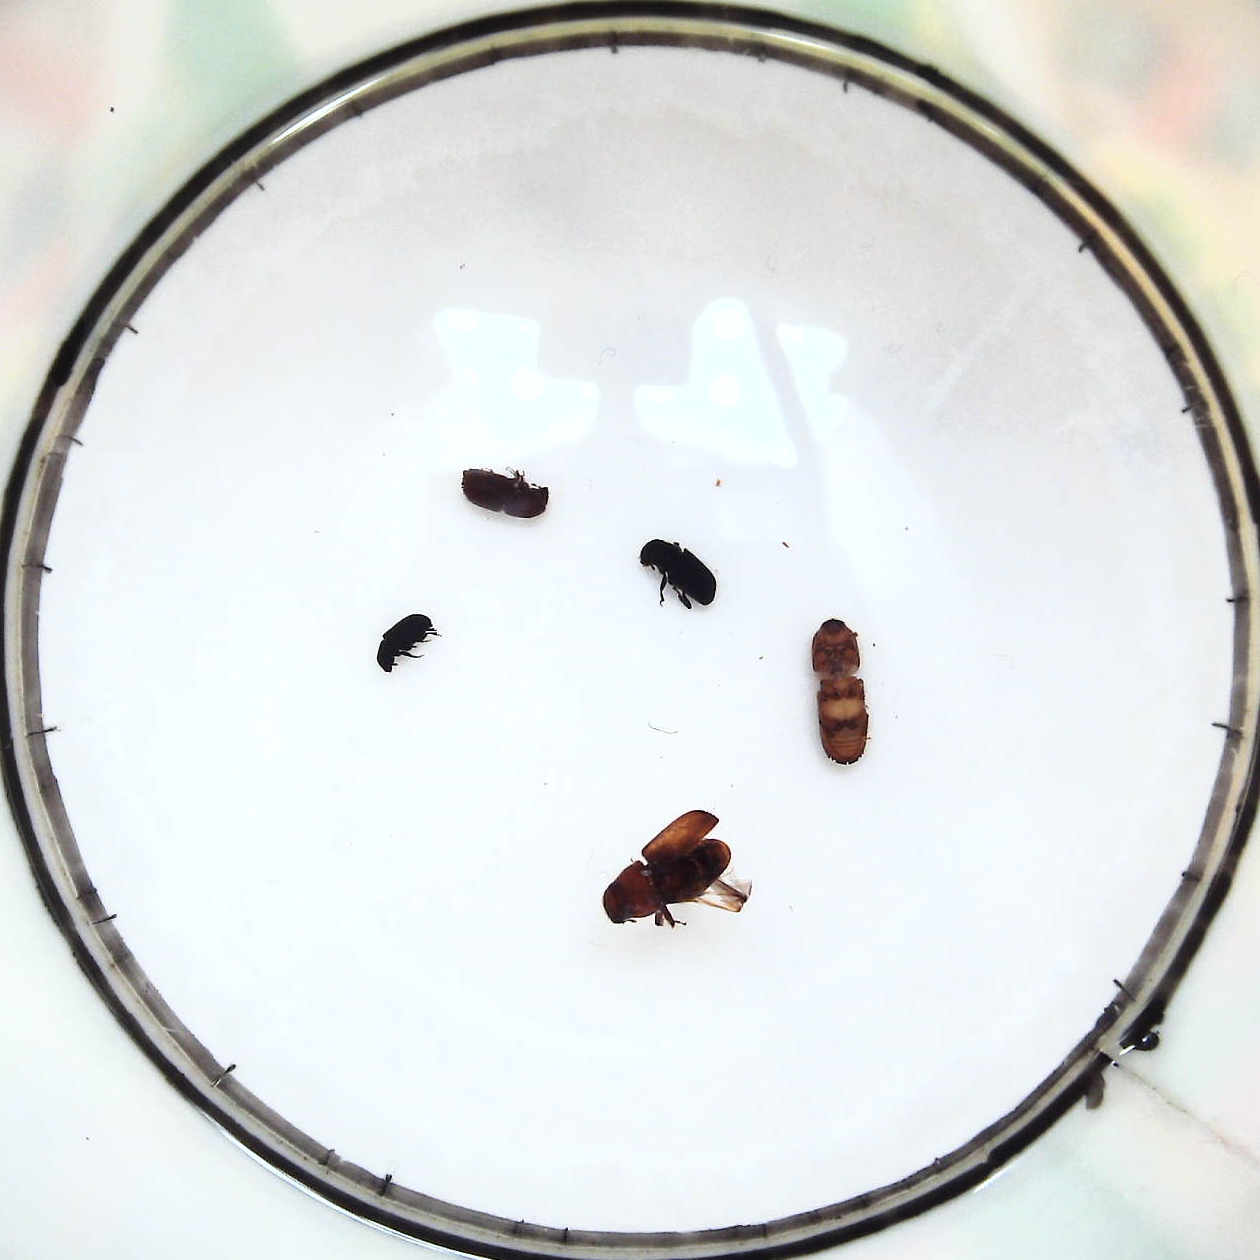Boerner: (813, 617, 873, 768)
Leconte: (602, 807, 747, 927)
Linnaeus: (462, 468, 548, 522)
armandi: (636, 539, 719, 614)
coleoptera: (380, 607, 438, 678)
